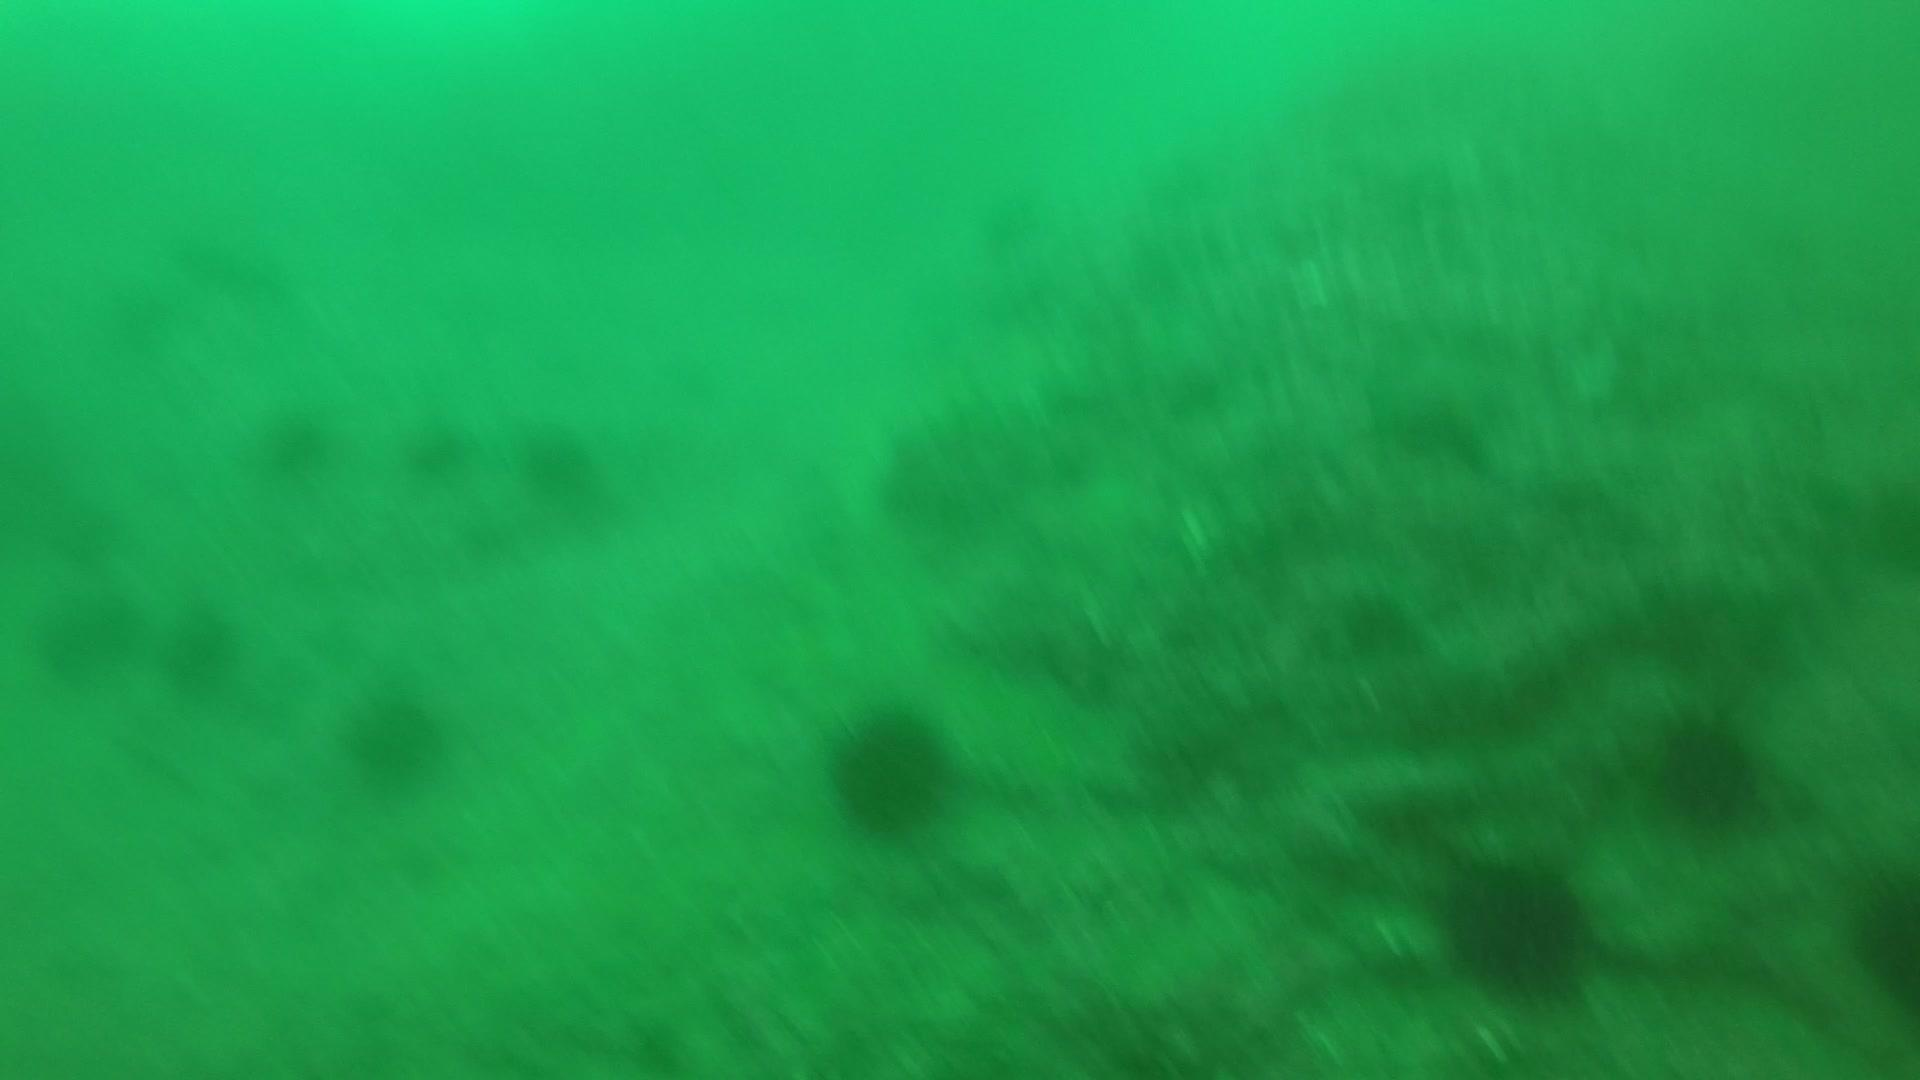echinus: (1433, 847, 1596, 998), (820, 702, 959, 841), (1646, 707, 1768, 833), (336, 680, 452, 793), (30, 582, 142, 684), (1844, 860, 1919, 1013), (514, 415, 611, 510), (157, 597, 244, 694), (249, 400, 338, 481), (1335, 585, 1420, 662), (400, 411, 473, 481)
